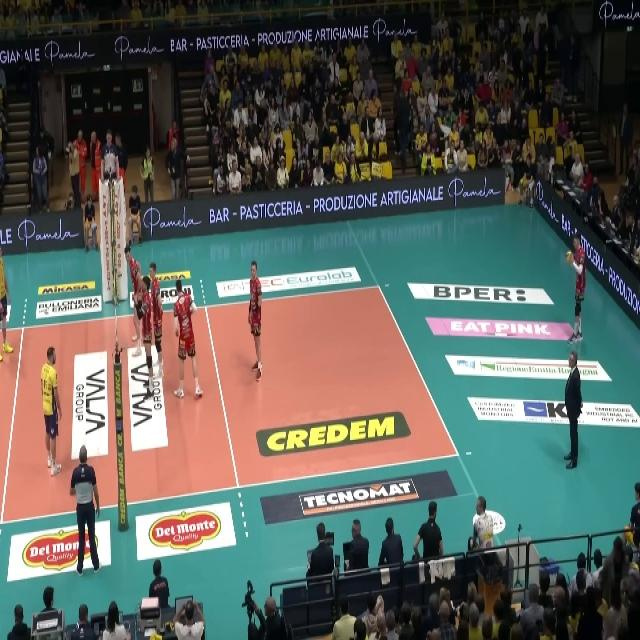volleyball court: (0, 283, 459, 521)
